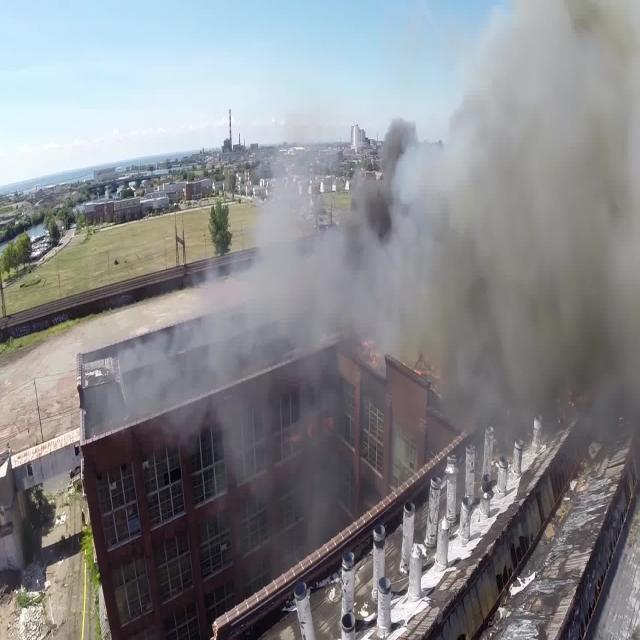Smoke: (150, 4, 640, 458)
